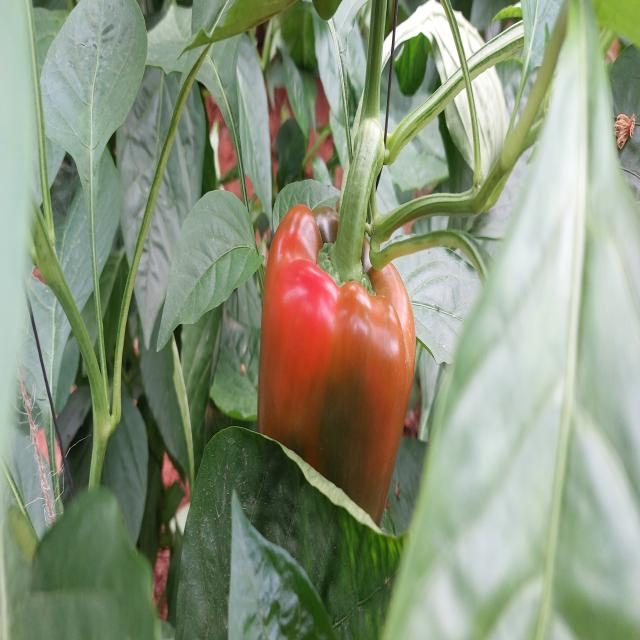BrownishRed--Can-be-Harvested: (258, 206, 416, 550)
